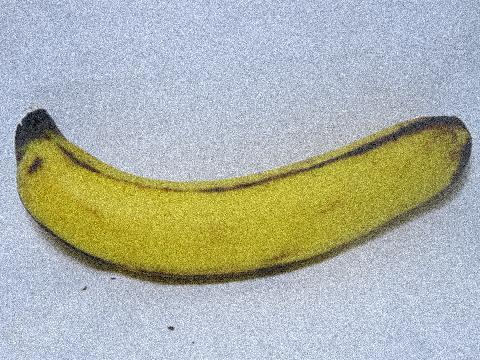ripe: (9, 79, 466, 293)
